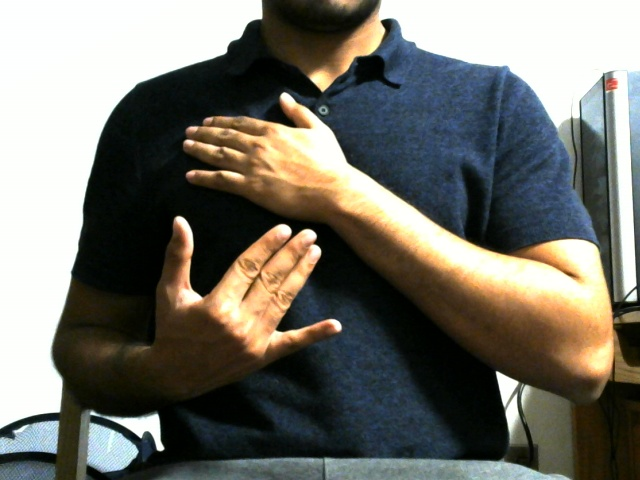blood: (86, 74, 441, 410)
